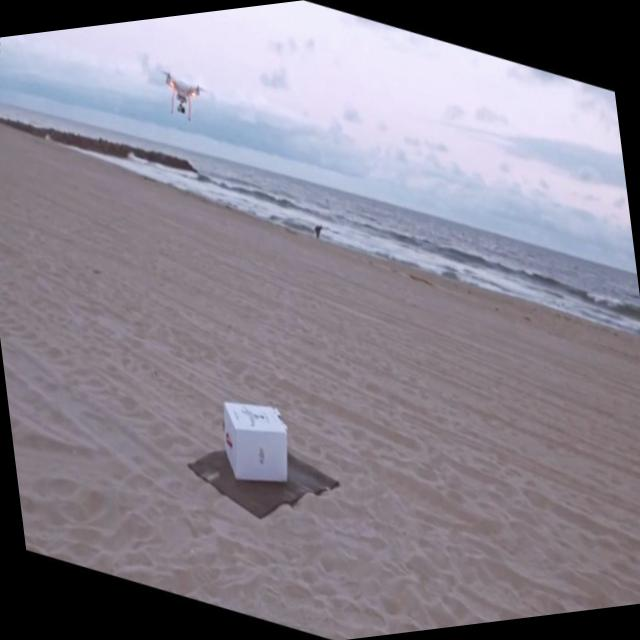drone: (157, 58, 210, 132)
